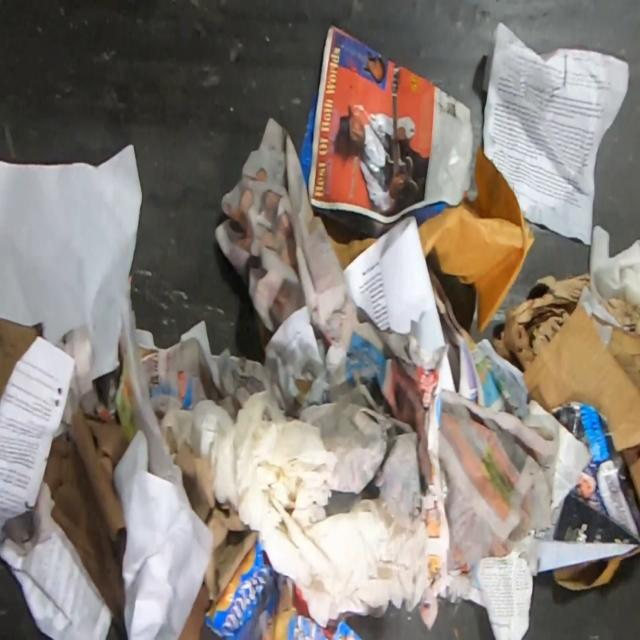cardboard: (41, 405, 130, 639), (522, 285, 640, 451), (0, 316, 43, 404), (622, 441, 640, 500)
soft_plastic: (204, 539, 363, 640)
